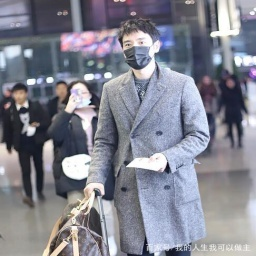correctlyWear: (118, 34, 160, 69)
incorrectlyWear: (69, 90, 92, 109)
noWear: (13, 89, 26, 104), (55, 85, 67, 97)
